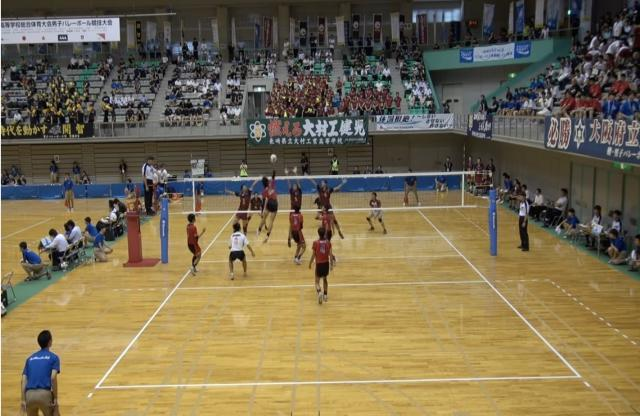spike: (252, 150, 282, 247)
